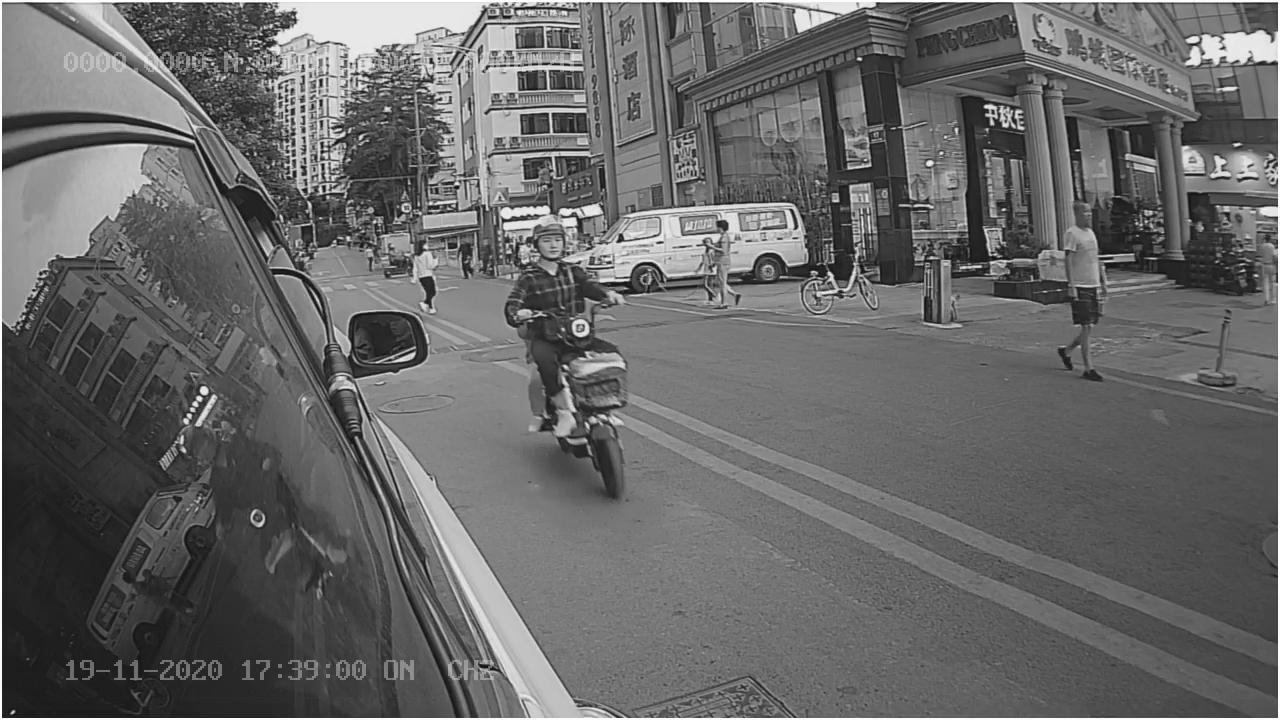person: (501, 216, 599, 346)
